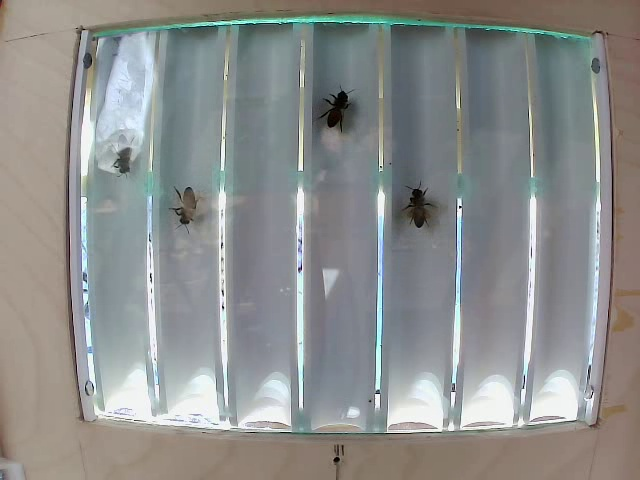bee: (158, 175, 216, 249), (315, 81, 364, 138), (102, 140, 156, 189), (403, 168, 441, 229)
